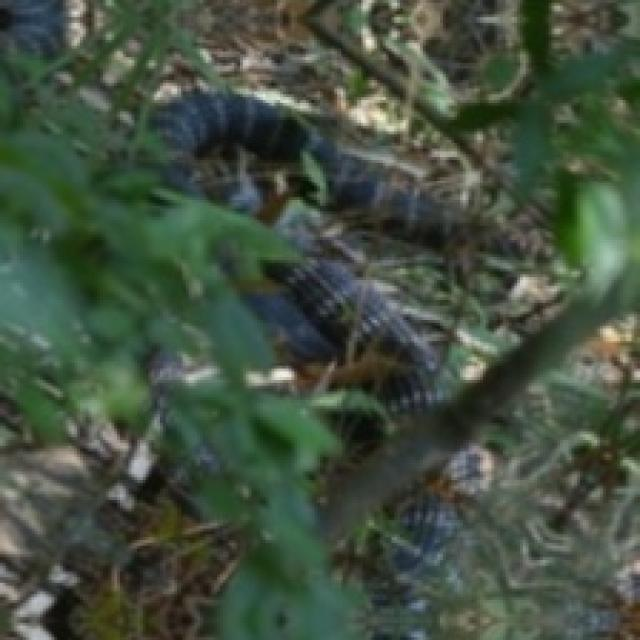king cobra: (154, 92, 459, 241), (250, 259, 440, 408), (392, 494, 459, 561)
